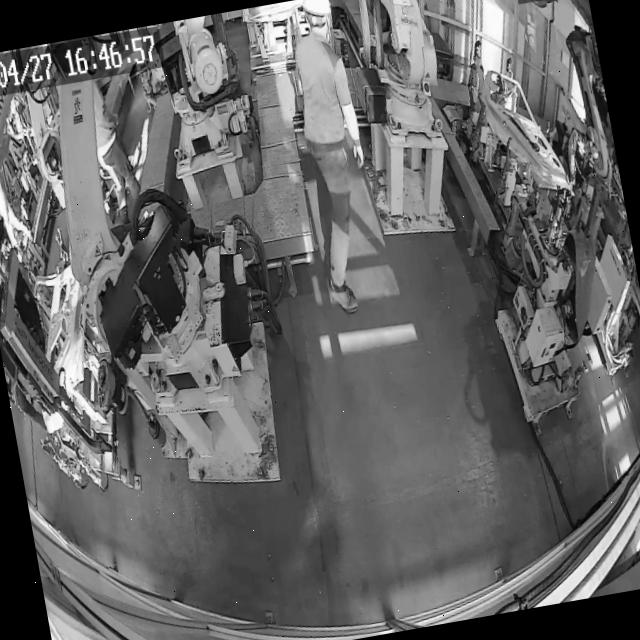Person: (277, 0, 391, 316), (83, 73, 146, 227)
